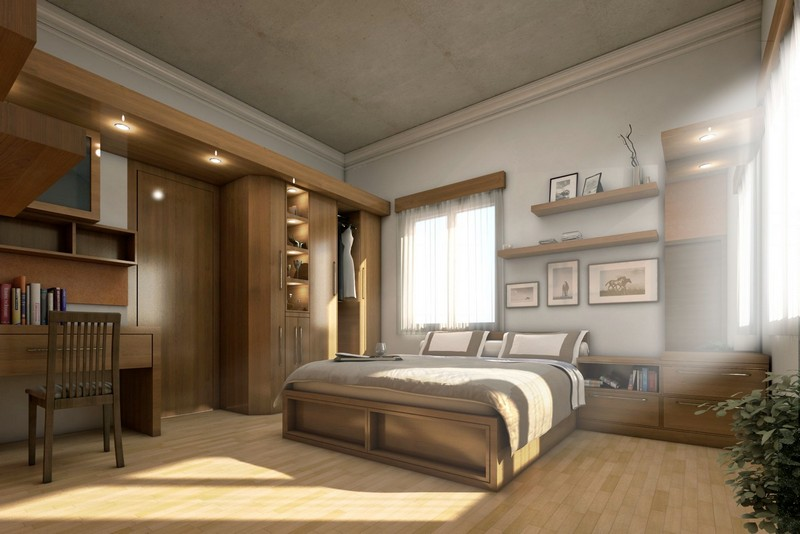bed: (281, 327, 589, 488)
chair: (25, 306, 129, 486)
table: (3, 318, 165, 444)
